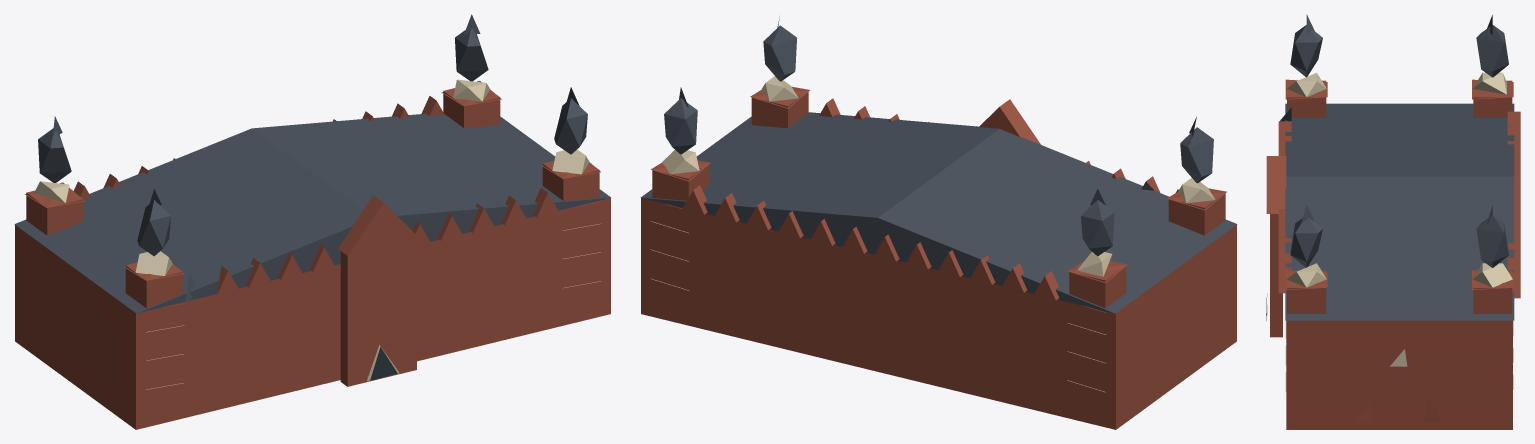
File: magna-plaza.lod2.glb
3 renders of one model, left to right at view 1: azimuth 30°, elevation 25°; view 2: azimuth 150°, elevation 25°; view 3: azimuth 270°, elevation 25°, orthographic. The views are drawn at different scales.
Parts seen in each view (by area): view 1: lod2; view 2: lod2; view 3: lod2.
Boxes of the visible parts, x1,y1,x2,y2 form: lod2: (14, 14, 611, 429); lod2: (640, 16, 1237, 429); lod2: (1266, 14, 1520, 429).
Size of the model in its own units: 78.86 by 35.89 by 39.
